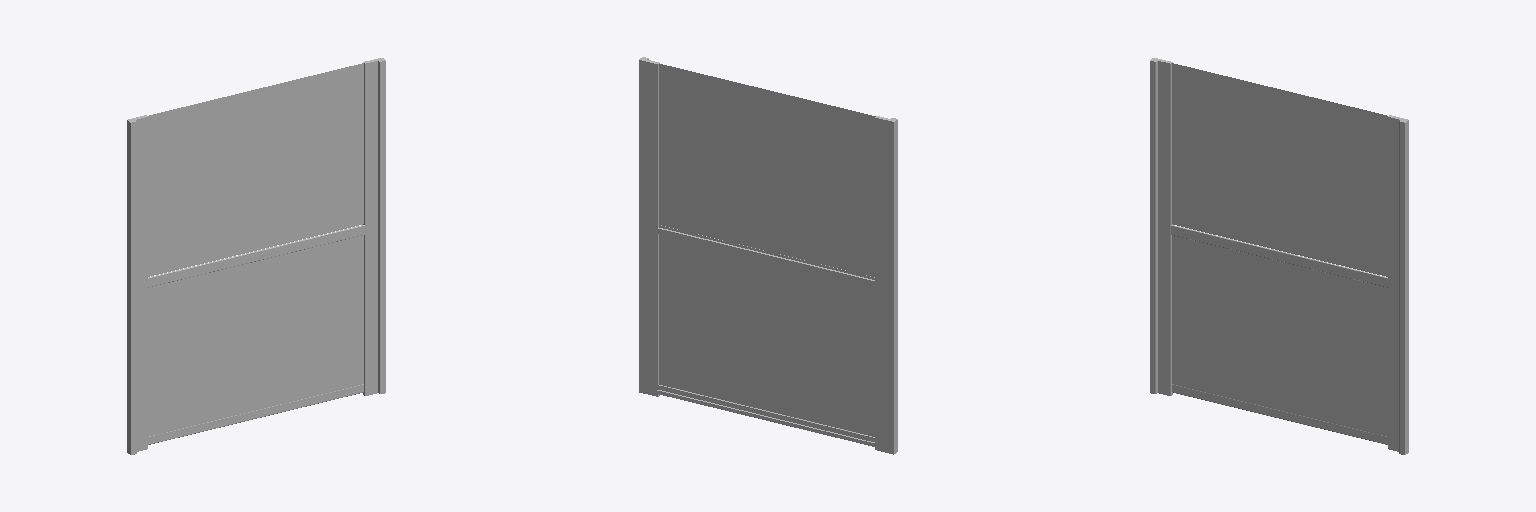
File: Bridge_Short_Plane.obj
3 renders of one model, left to right at view 1: azimuth 30°, elevation 25°; view 2: azimuth 150°, elevation 25°; view 3: azimuth 330°, elevation 25°, orthographic.
Visible parts, largest first — view 1: 01.001; view 2: 01.001; view 3: 01.001.
Boxes of the visible parts, box(x1,y1,x2,y2) form: 01.001: box(127, 58, 385, 454); 01.001: box(639, 57, 897, 454); 01.001: box(1150, 58, 1408, 454).
Bounding box in the file's own units: 1.64 × 2.04 × 0.0582.